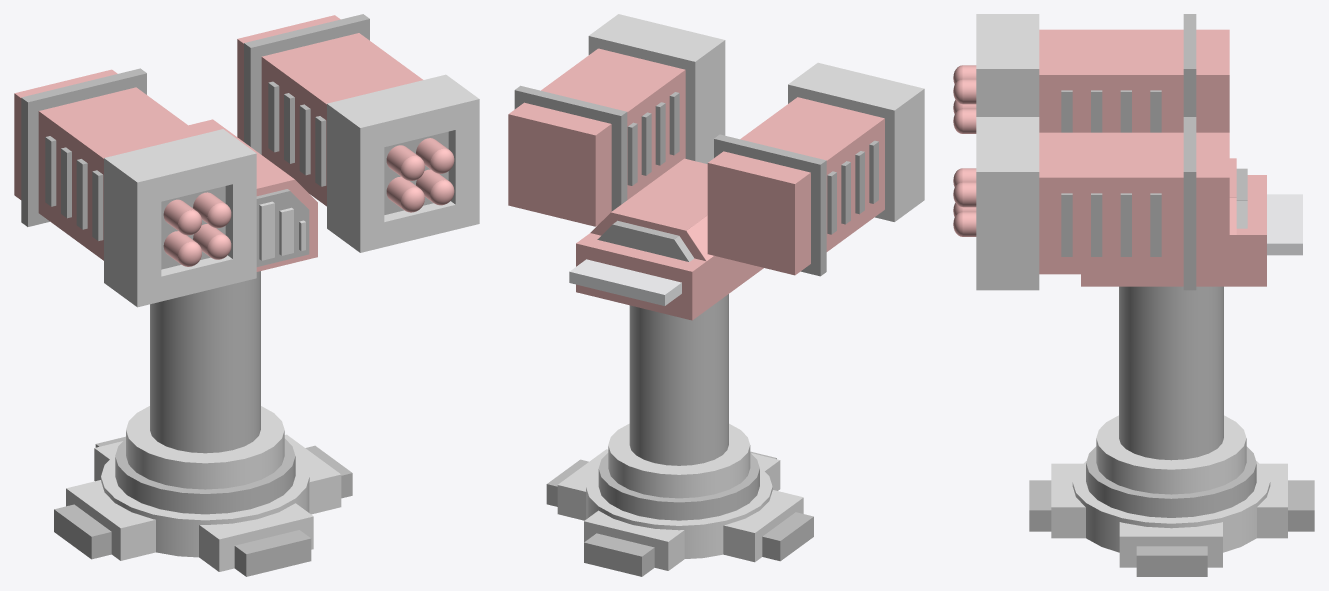
Rendered from MissileTurret.fbx.
3 views of the same model, side by side, from view 1: azimuth 30°, elevation 25°; view 2: azimuth 150°, elevation 25°; view 3: azimuth 270°, elevation 25° (orthographic). The views are drawn at different scales.
Parts seen in each view (by area): view 1: Turret.003, Turret.005; view 2: Turret.003, Turret.005; view 3: Turret.003, Turret.005.
Part boxes in pixels (x1,y1,x2,y2): Turret.003: (14, 14, 479, 307); Turret.005: (54, 271, 352, 576); Turret.003: (508, 14, 924, 320); Turret.005: (546, 294, 813, 576); Turret.003: (953, 14, 1302, 290); Turret.005: (1029, 286, 1314, 576).
Bounding box in the file's own units: 114 × 142 × 110.
